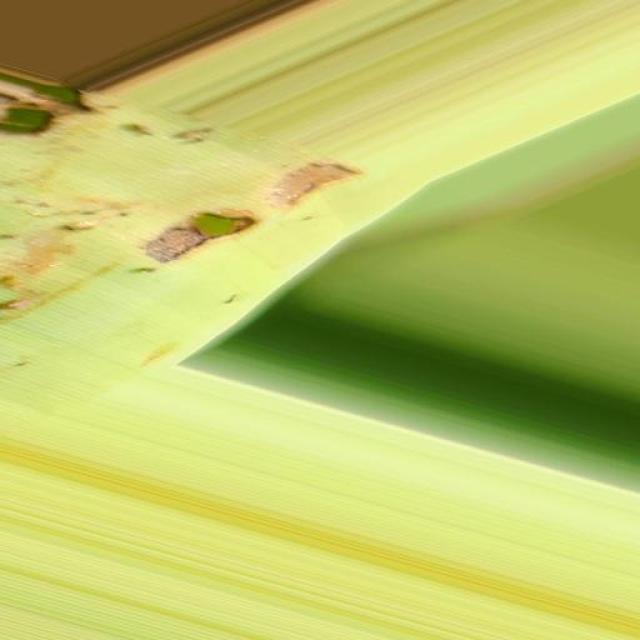Black_rot: (3, 45, 378, 455)
